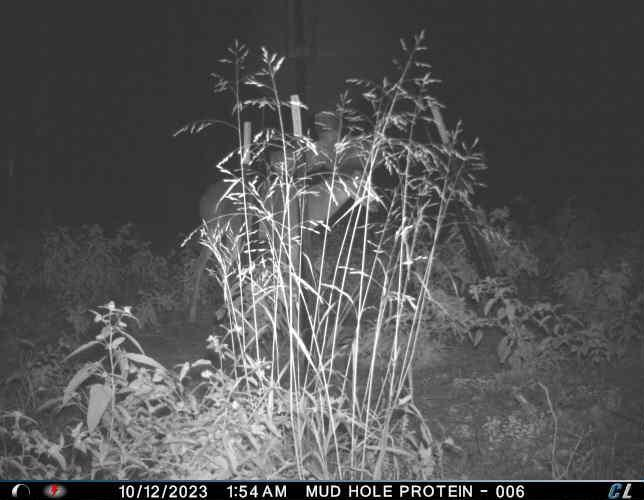Deer: (180, 163, 377, 329)
